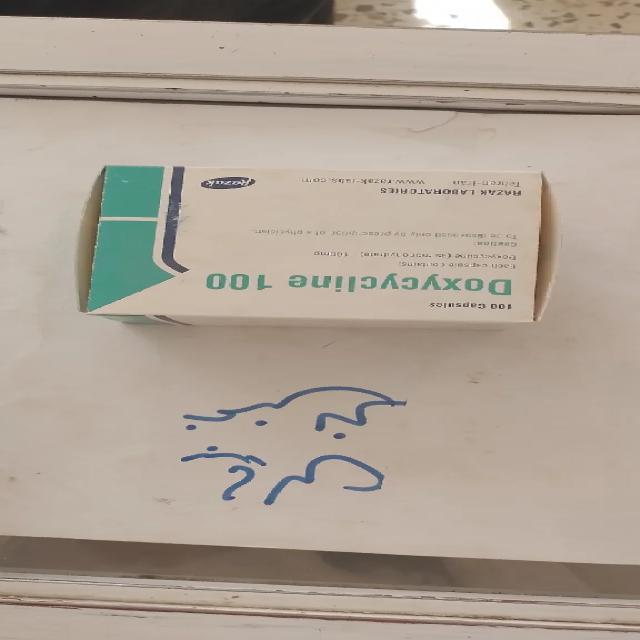drug-name: (202, 270, 514, 300)
